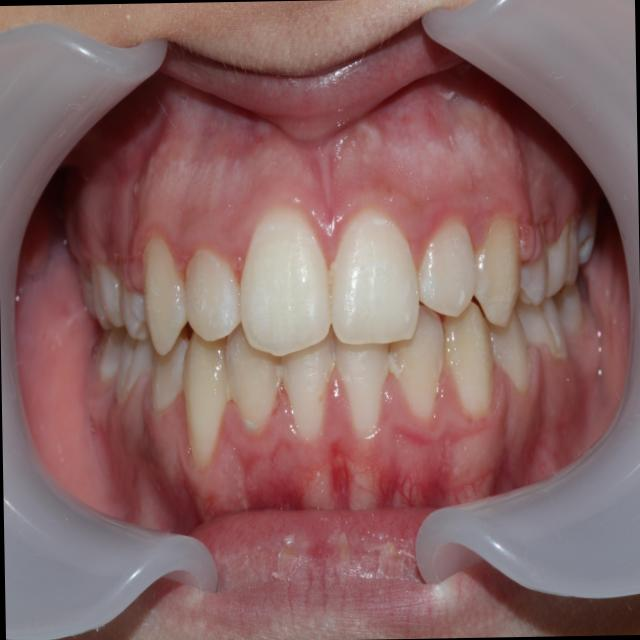Tooth: (239, 205, 331, 357), (330, 210, 419, 344), (182, 329, 230, 468), (389, 304, 445, 421), (280, 324, 335, 438), (225, 320, 280, 431), (332, 329, 390, 434), (417, 219, 477, 317), (443, 300, 493, 415), (142, 236, 188, 354), (184, 246, 240, 342), (473, 215, 520, 326), (484, 307, 530, 393), (150, 331, 188, 412)
